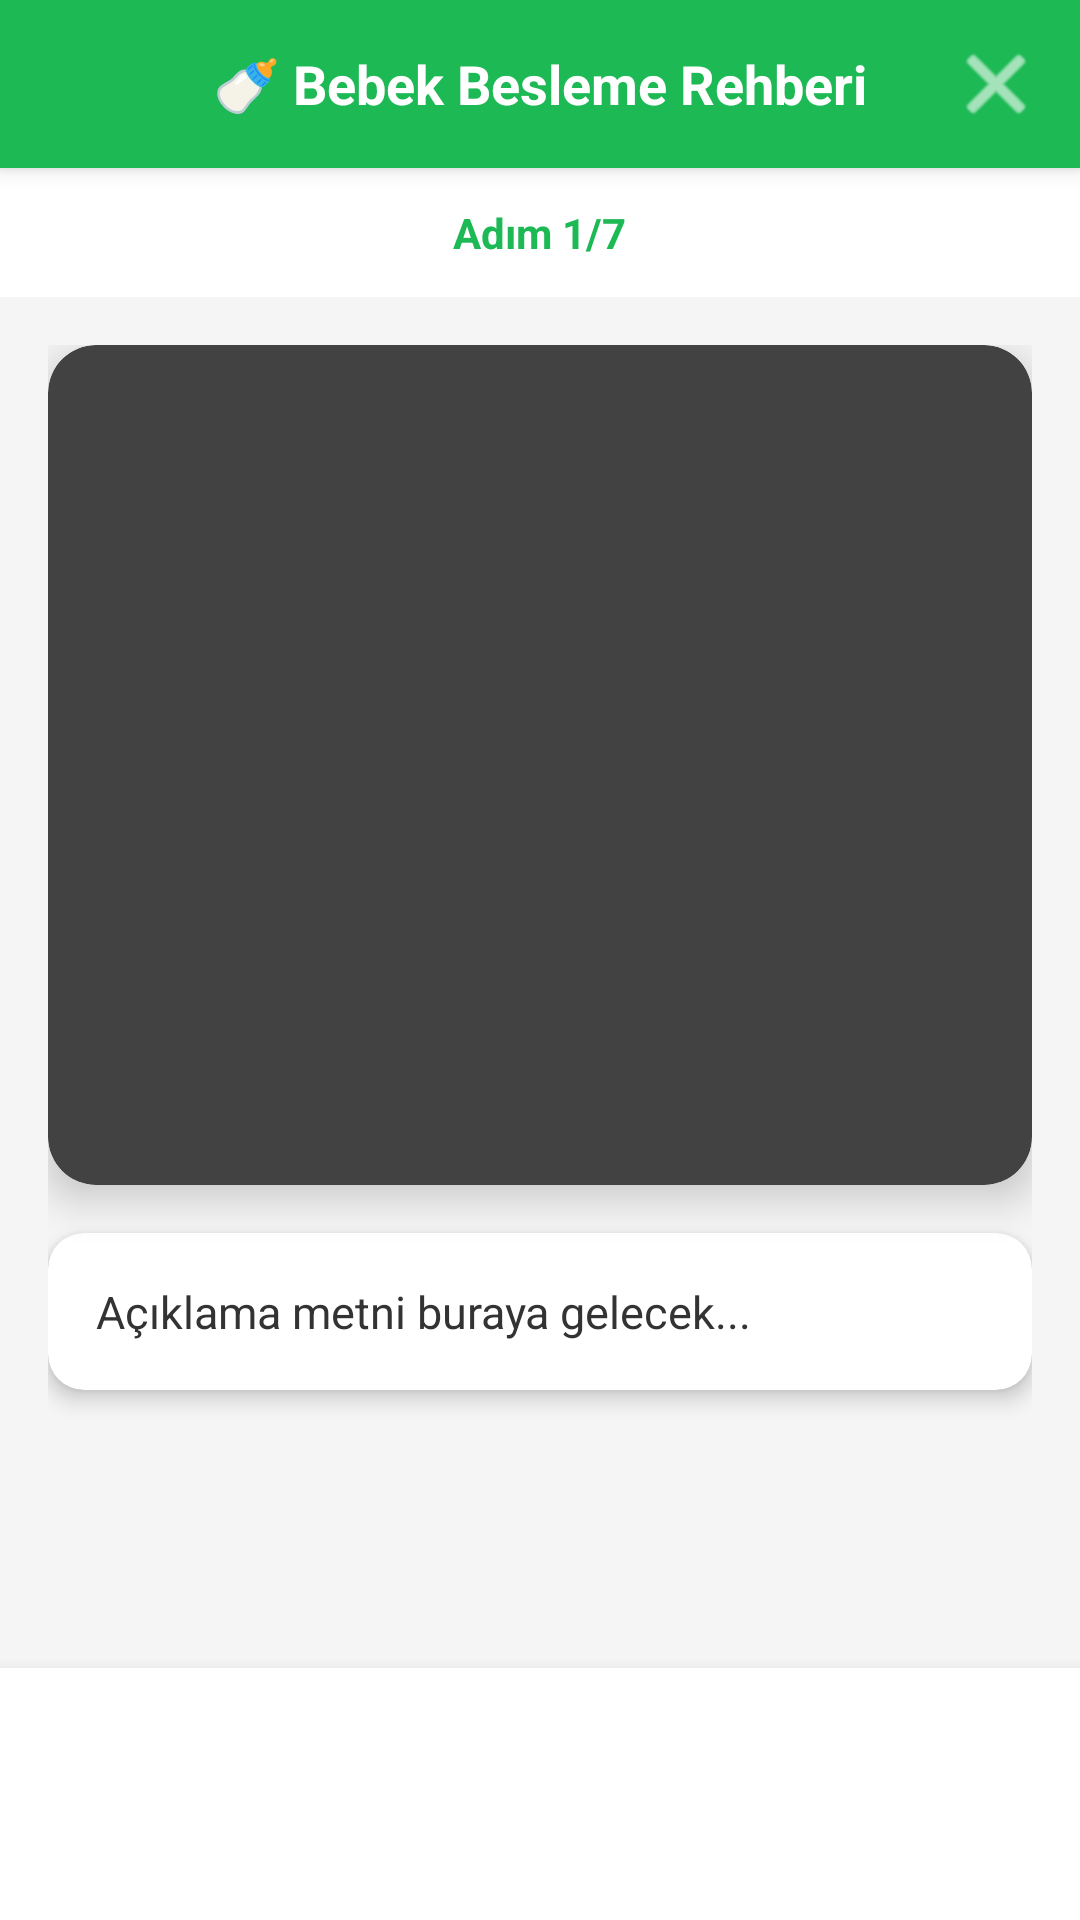

Screen size 1080w x 1920h. Icon name, then its center in pixels as (x=x, y=y):
Kapat: (x=996, y=84)
